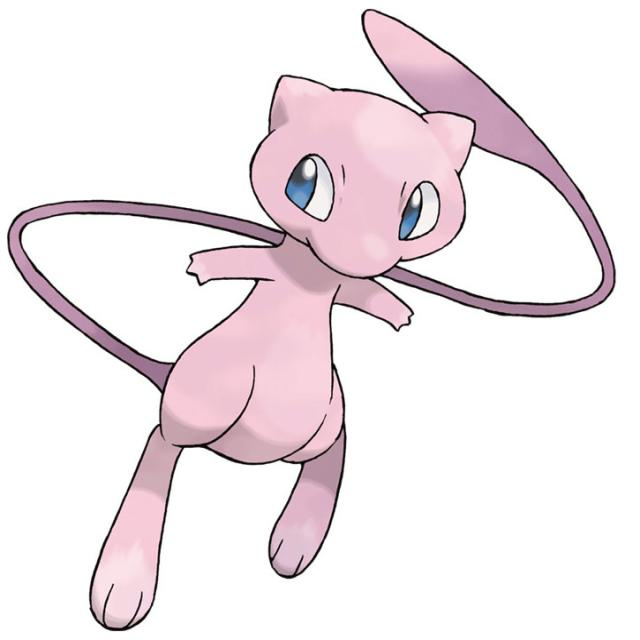Mew: (206, 75, 465, 464)
